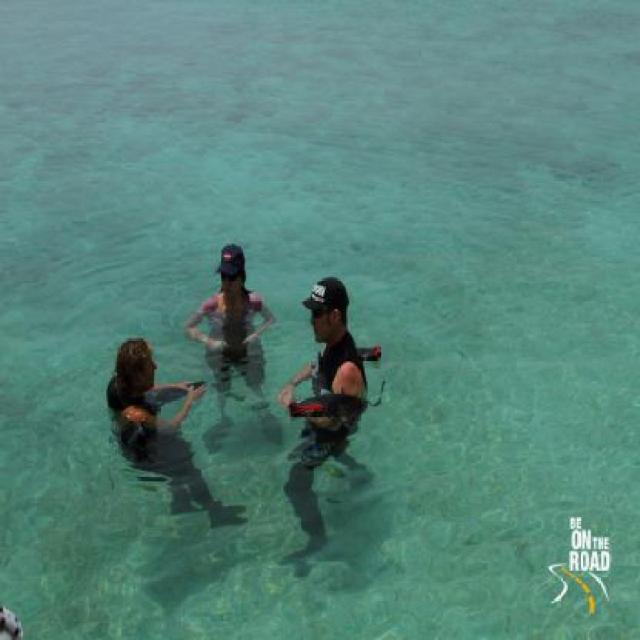Person: (102, 330, 253, 544), (281, 275, 373, 467), (187, 239, 279, 361)
